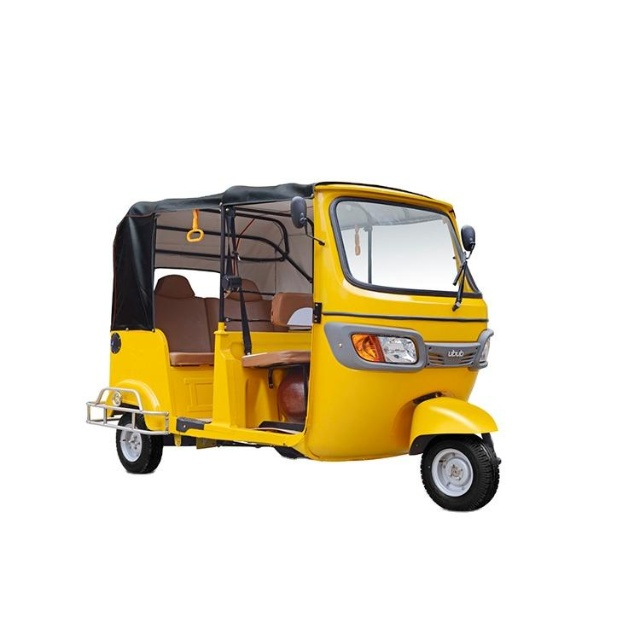Motorcycle: (86, 183, 503, 512)
